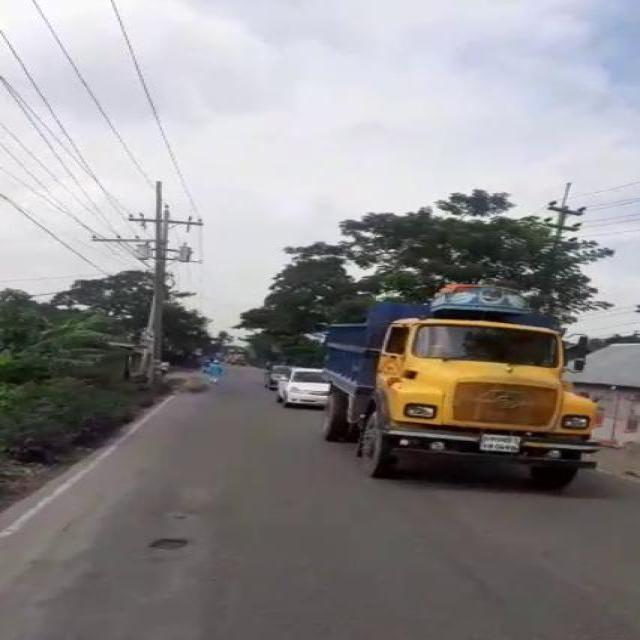car: (276, 364, 328, 404), (262, 362, 285, 386)
truck: (316, 285, 600, 489)
